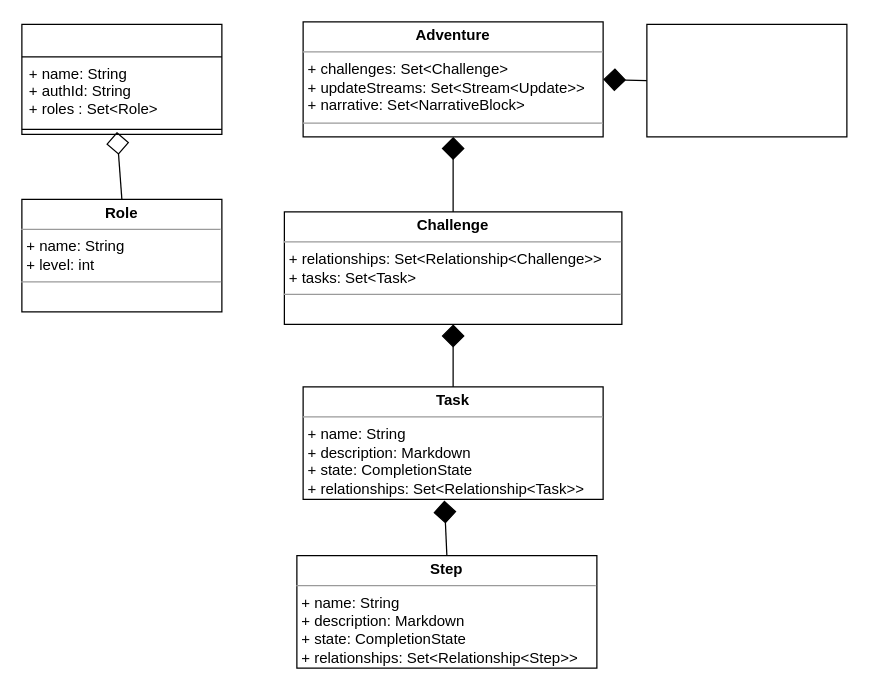
This 869x690 diagram has some shape labels left out. The box of each missing label's shape, as (x1, y1, x2, y2) in pixels:
Adventurer: (21, 23, 222, 134)
NarrativeBlock + content: Markdown + percentComplete: double: (646, 23, 847, 137)
